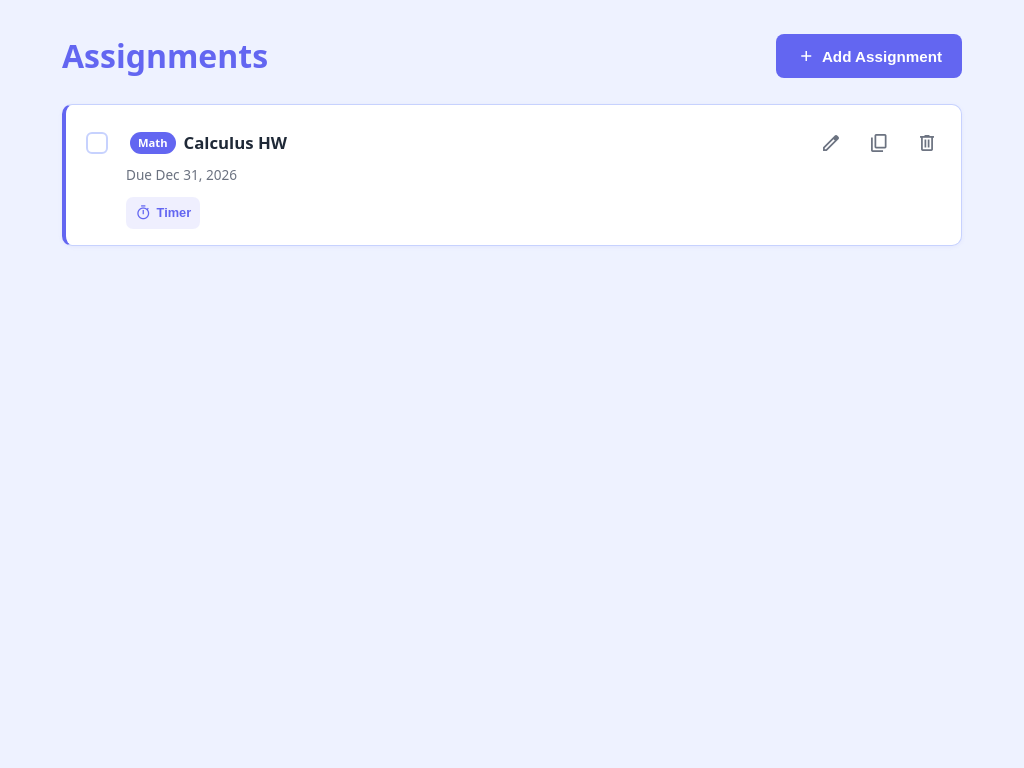
Assignments — delete modal › shows delete error when remove fails
The width and height of the screenshot is (1024, 768).
Click the button named "delete calculus hw". click: (927, 143)
box: left=905, top=121, right=949, bottom=165
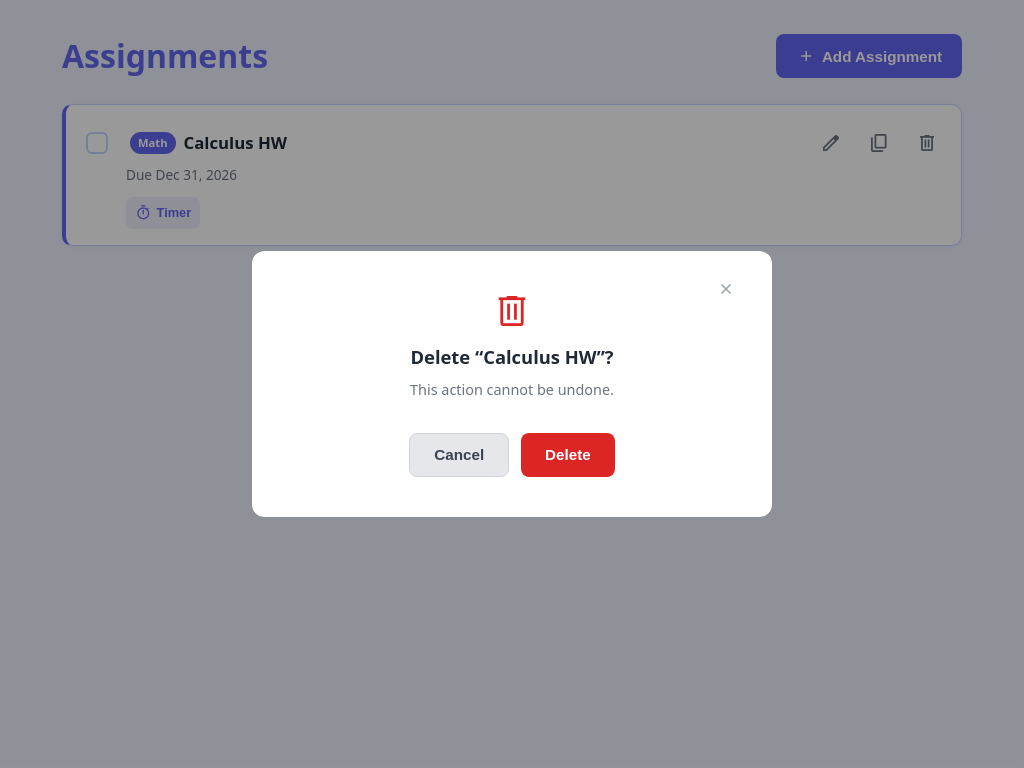
Click the button "Delete". click: (568, 455)
box: left=521, top=433, right=615, bottom=477
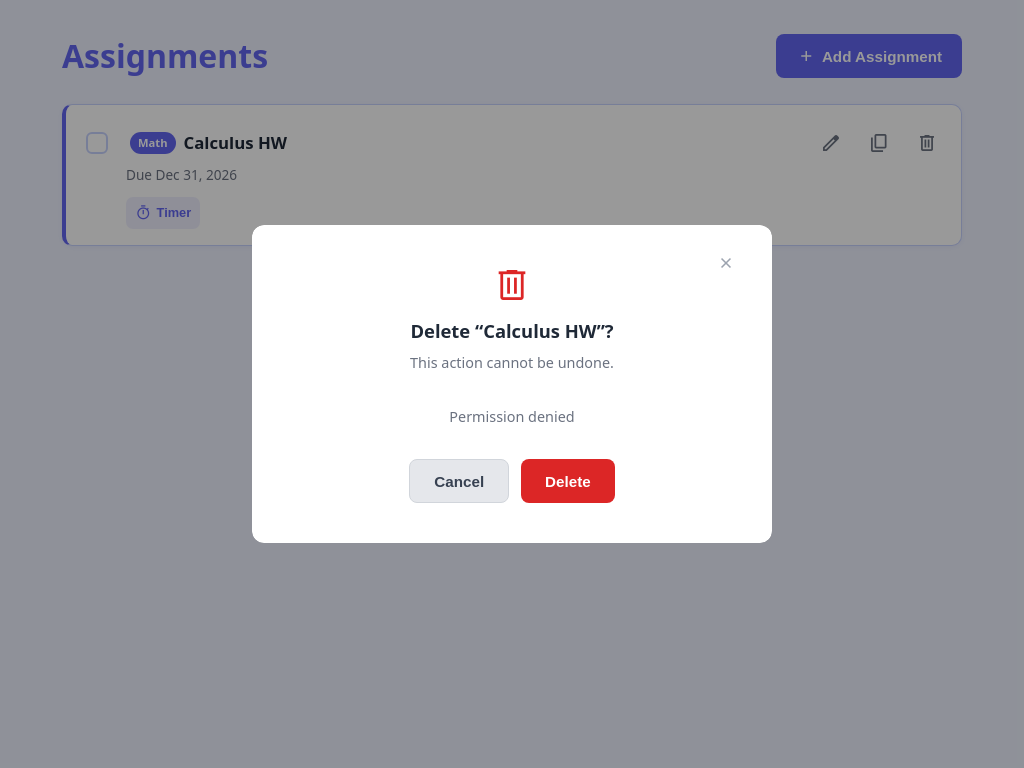
Now the text "Permission denied" is shown, box left=449, top=407, right=575, bottom=426
